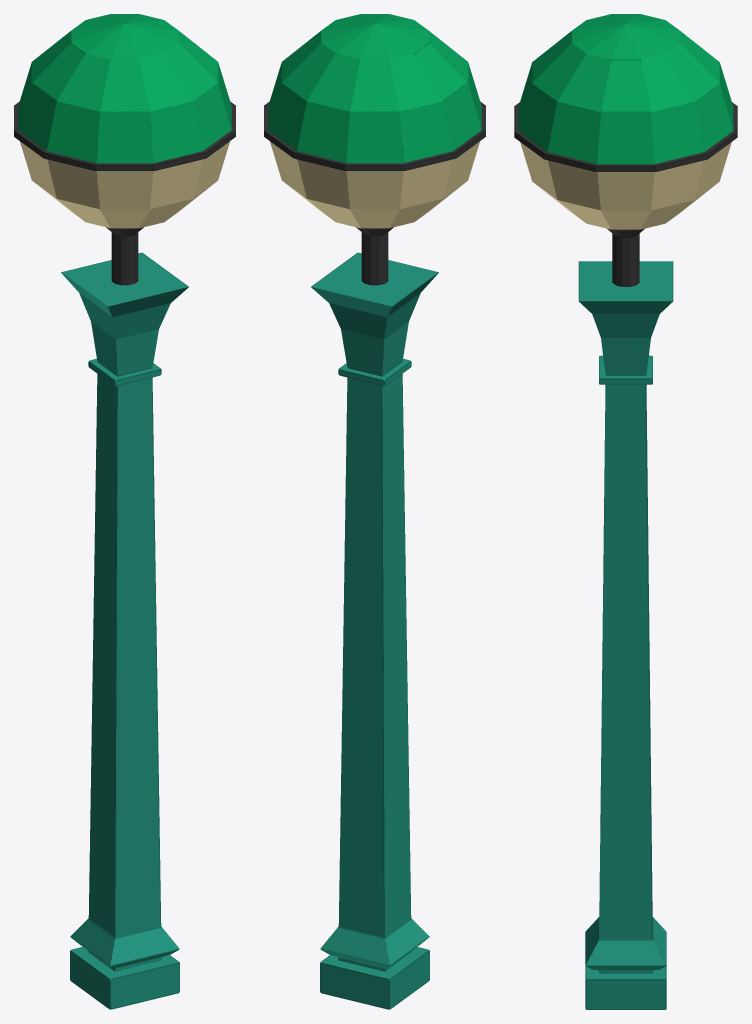
Rendered from nyc_subway_entrance_1_globe_light_1g.obj.
3 views of the same model, side by side, from view 1: azimuth 30°, elevation 25°; view 2: azimuth 150°, elevation 25°; view 3: azimuth 270°, elevation 25° (orthographic).
Visible parts, largest first — view 1: cube, sphere, cylinder; view 2: cube, sphere, cylinder; view 3: cube, sphere, cylinder.
Boxes of the visible parts, x1,y1,x2,y2 form: cube: (61,252,188,1009); sphere: (18,14,231,228); cylinder: (14,100,235,285); cube: (311,252,438,1009); sphere: (268,14,481,228); cylinder: (264,100,485,285); cube: (578,261,673,1009); sphere: (518,14,733,229); cylinder: (514,102,737,286).
Size of the model in its own units: 0.5156 by 2.47 by 0.5156.
1 material, 1 textured.
